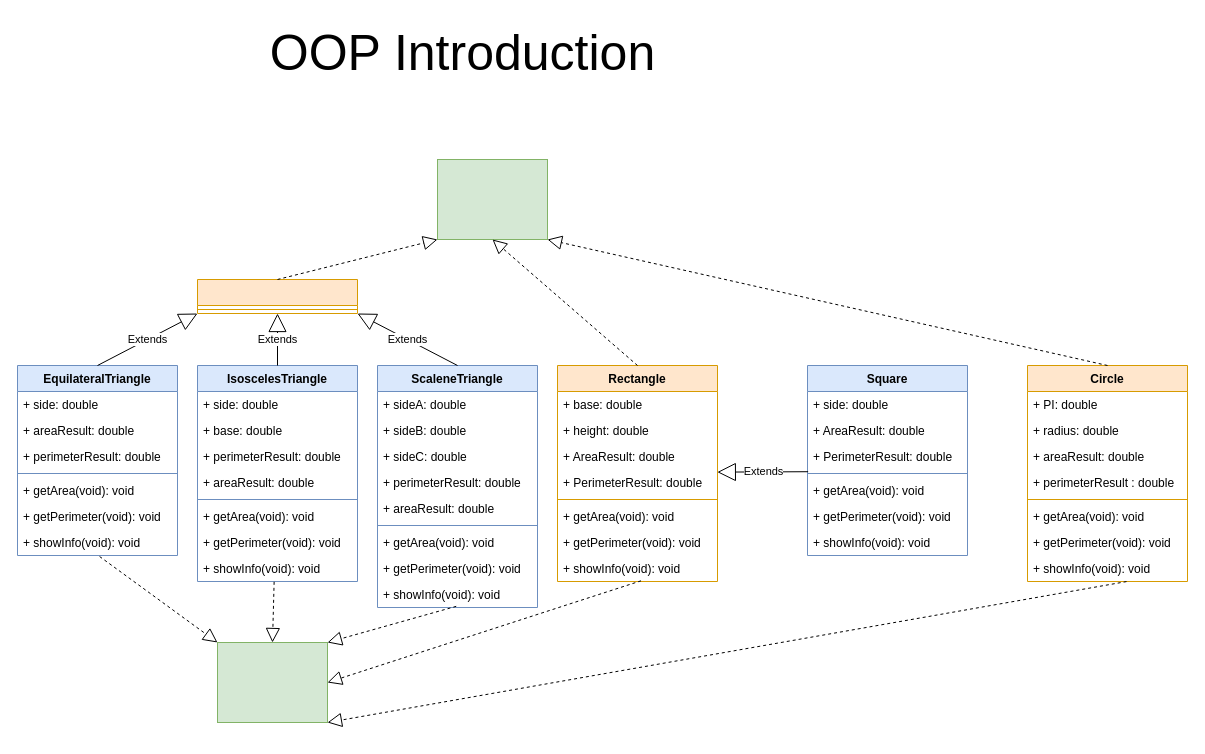
The diagram is 1205 pixels wide and 754 high, and some of its shapes have lost their labels. Here are the shapes that lost their labels. From the top down, the centre of each, then its label:
the point at 492,199: «interface» Figure getArea(); getPerimeteer();
the point at 277,296: Triangle
the point at 272,682: «interface» ShowInfo showInfo();
